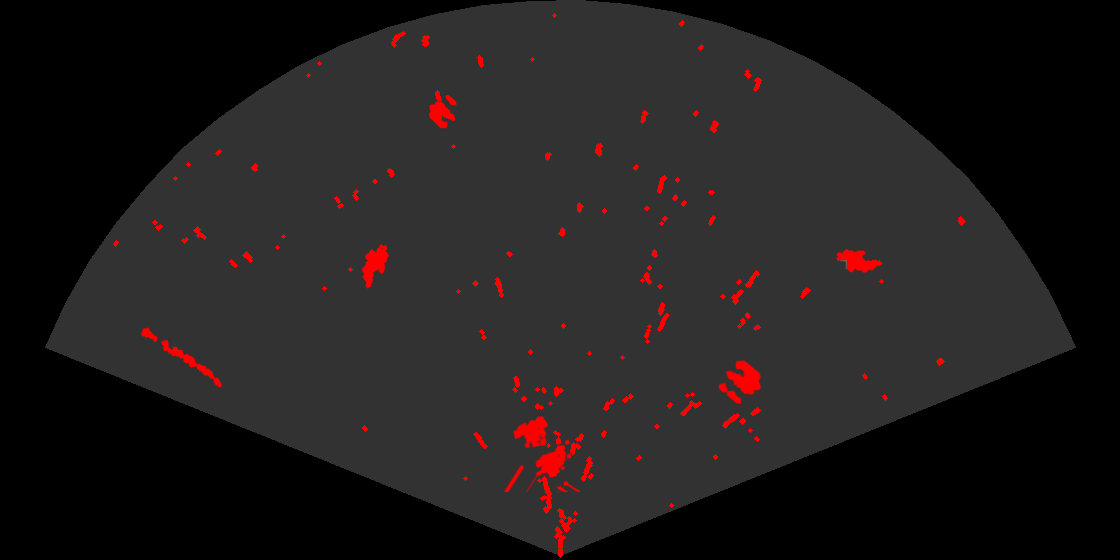AUV: (360, 242, 390, 290), (835, 248, 884, 274)
ball: (717, 358, 763, 406), (427, 93, 458, 130)
cage: (502, 414, 582, 492)
chain: (139, 326, 224, 389)
